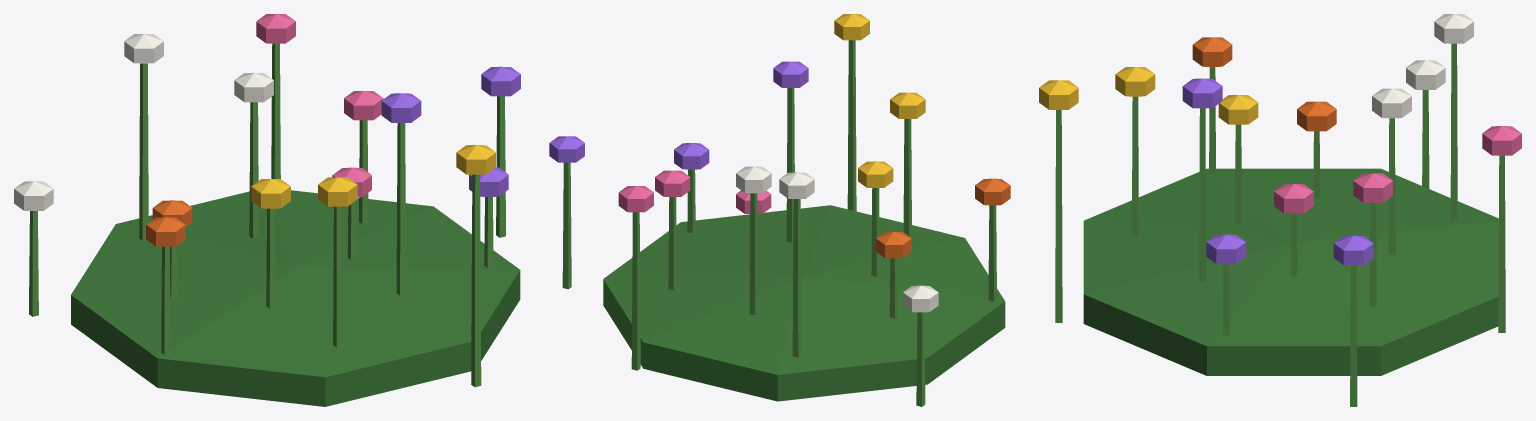
The model's file is flower_patch.glb.
3 views of the same model, side by side, from view 1: azimuth 30°, elevation 25°; view 2: azimuth 150°, elevation 25°; view 3: azimuth 270°, elevation 25° (orthographic). The views are drawn at different scales.
Visible parts, largest first — view 1: flower_patch; view 2: flower_patch; view 3: flower_patch.
Boxes of the visible parts, left/top/right/bottom form: flower_patch: left=14, top=14, right=520, bottom=406; flower_patch: left=549, top=14, right=1010, bottom=406; flower_patch: left=1039, top=14, right=1521, bottom=406.
Size of the model in its own units: 0.8136 by 0.425 by 0.7354.
